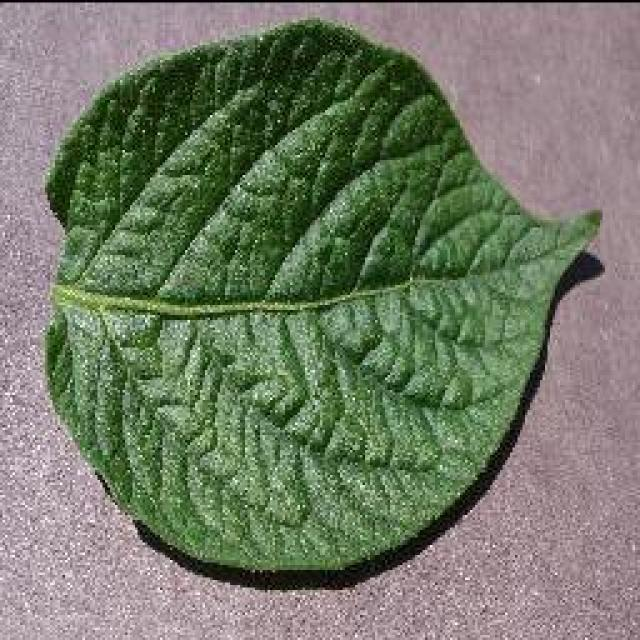Potato___healthy: (42, 26, 603, 575)
